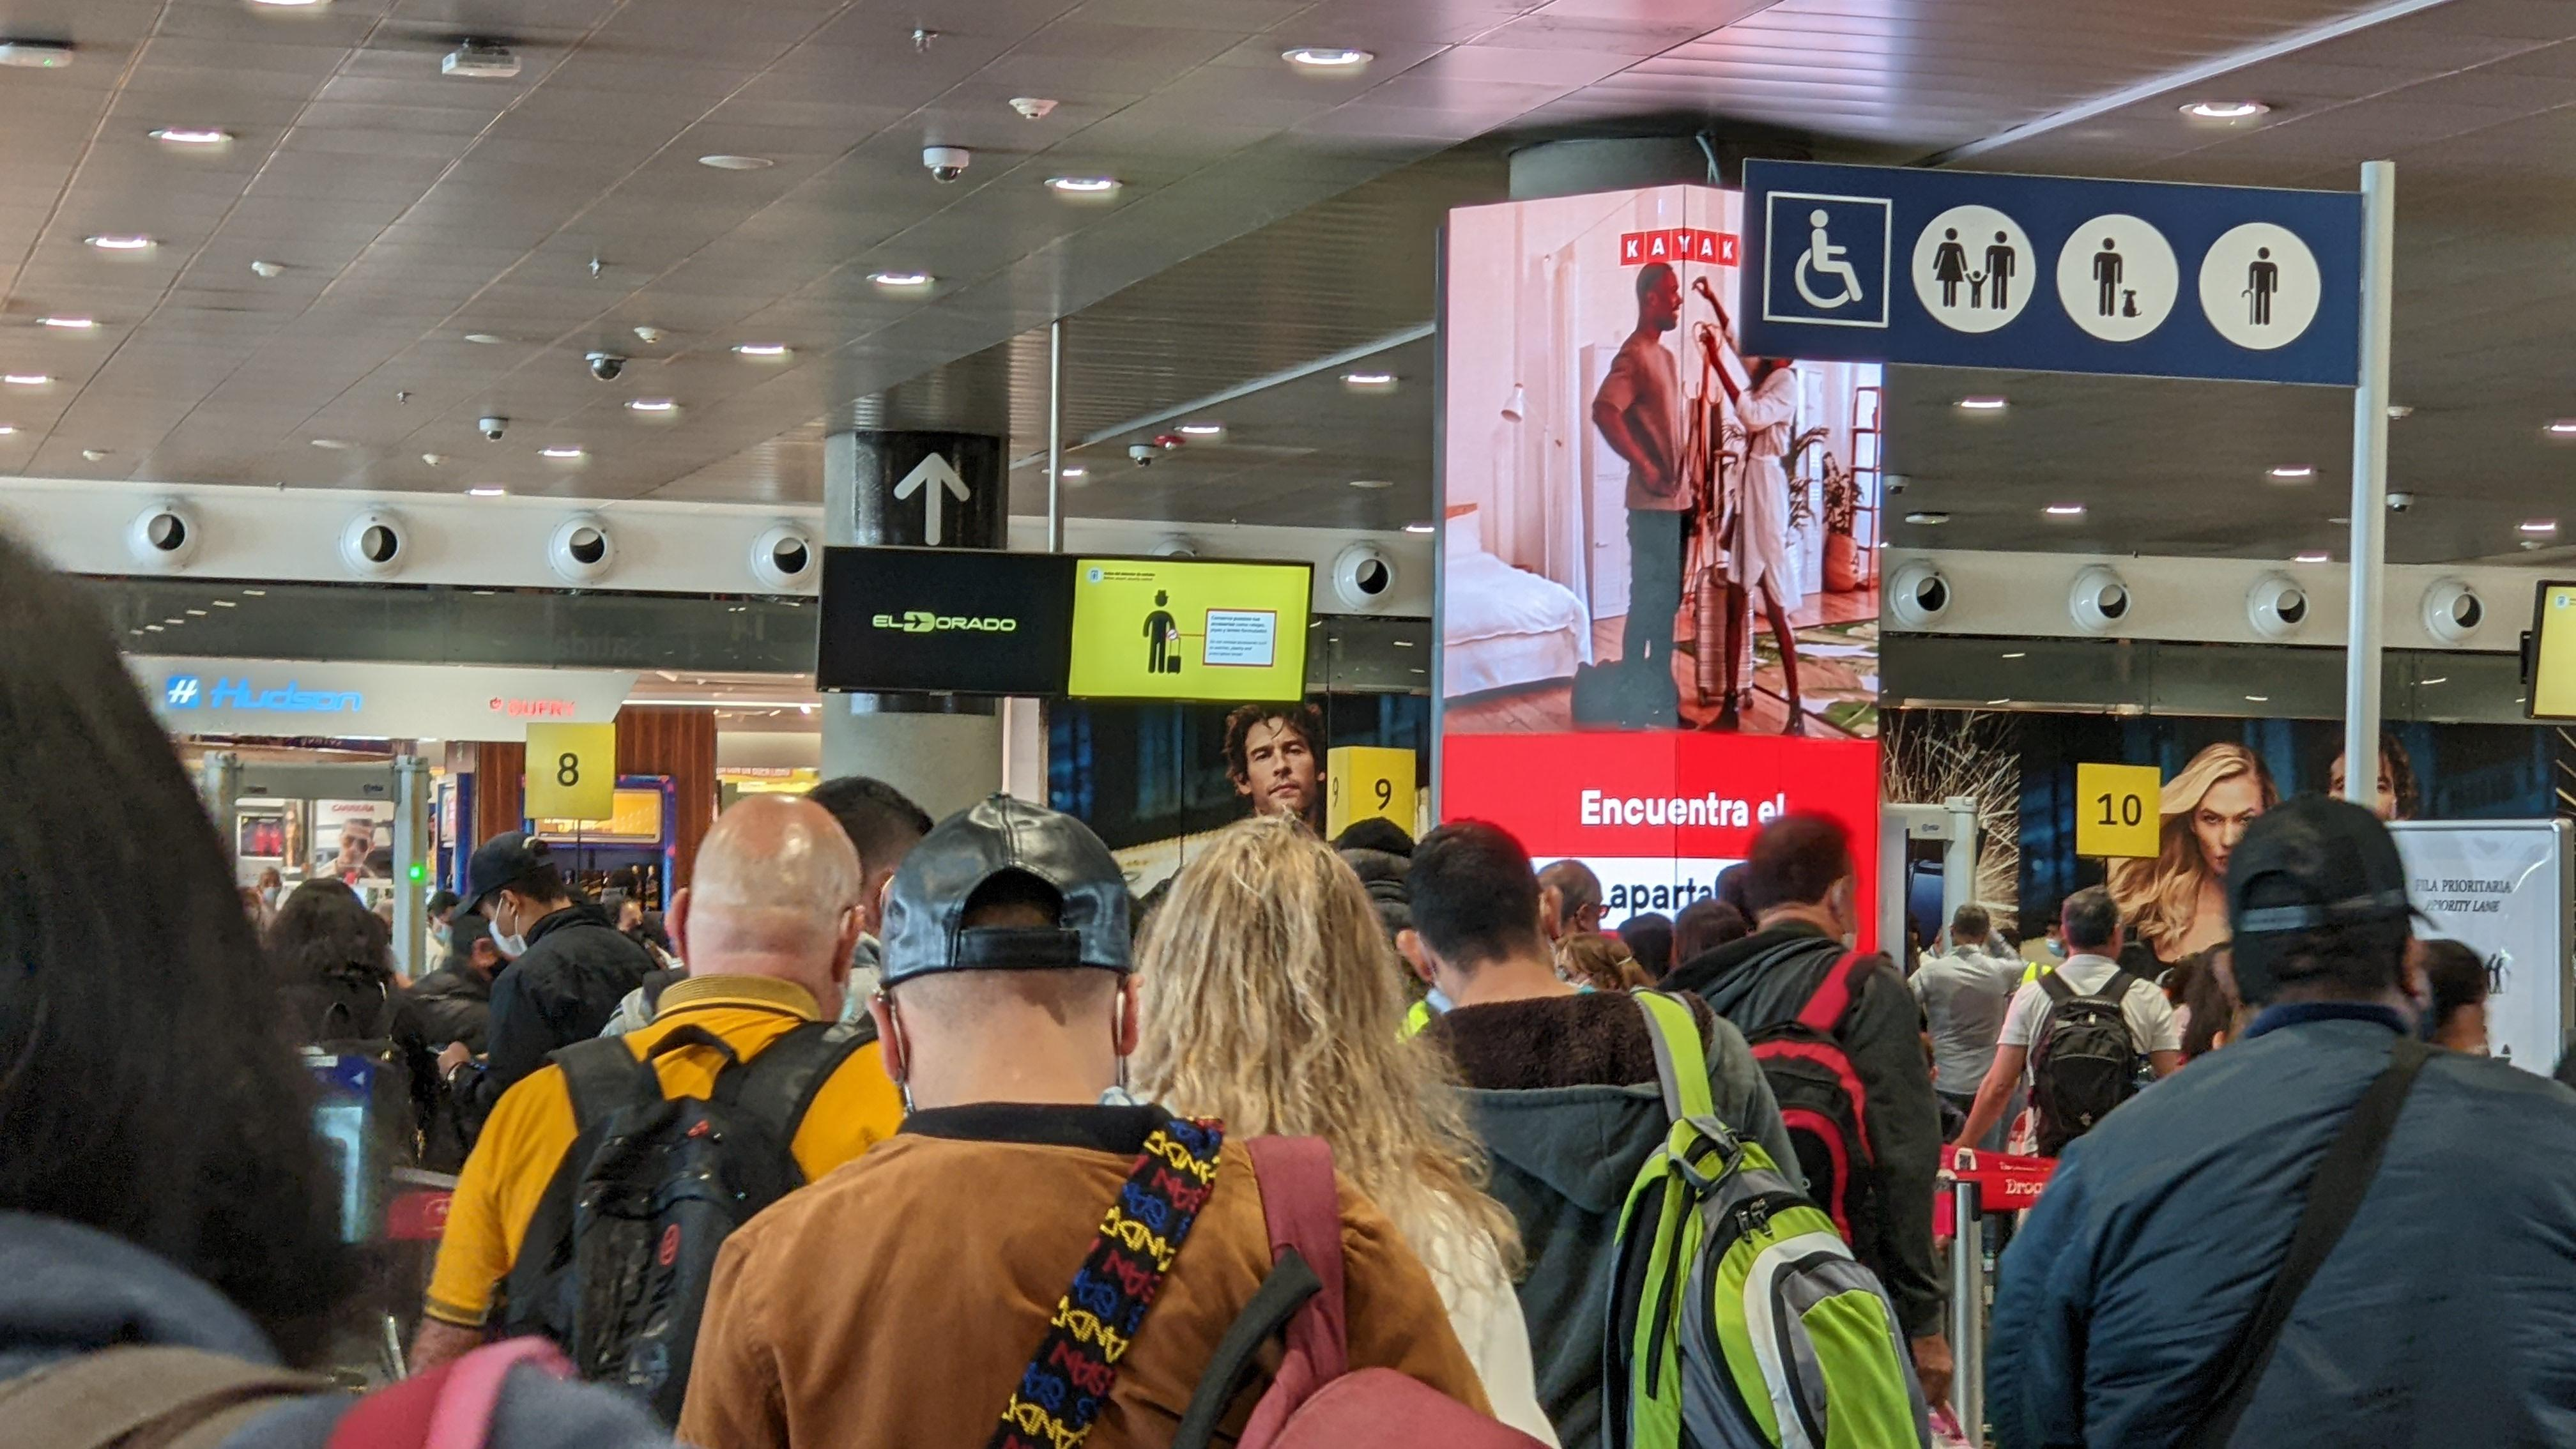handicapped symbol: (1789, 207, 1867, 311)
up arrow: (892, 449, 970, 548)
